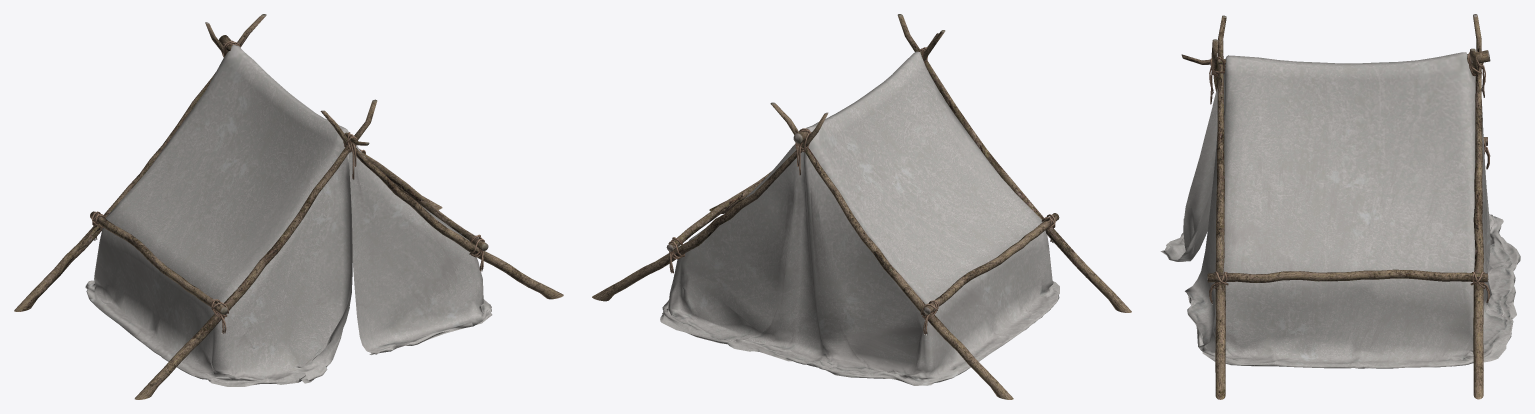
Rendered from tent.glb.
3 renders of one model, left to right at view 1: azimuth 30°, elevation 25°; view 2: azimuth 150°, elevation 25°; view 3: azimuth 270°, elevation 25°, orthographic. The views are drawn at different scales.
Parts seen in each view (by area): view 1: Tent, Sticks, Ropes; view 2: Tent, Sticks, Ropes; view 3: Tent, Sticks, Ropes.
Part boxes in pixels (x1,y1,x2,y2): Tent: [85, 44, 492, 386]; Sticks: [14, 14, 563, 399]; Ropes: [91, 40, 484, 334]; Tent: [660, 51, 1059, 385]; Sticks: [592, 14, 1131, 399]; Ropes: [668, 47, 1055, 335]; Tent: [1160, 52, 1520, 368]; Sticks: [1181, 14, 1490, 399]; Ropes: [1209, 51, 1490, 304].
Size of the model in its own units: 418 by 227 by 284.
Materials: 3 (3 with a texture image).
